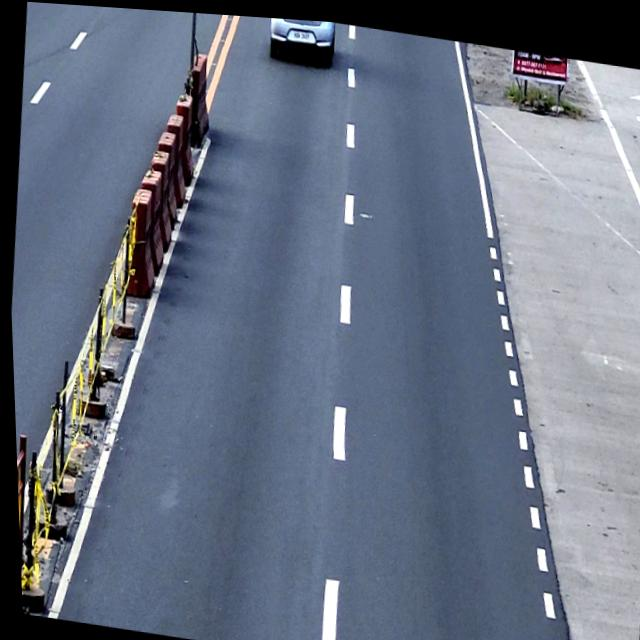Car: (266, 14, 336, 63)
License-Plate: (292, 24, 310, 38)
